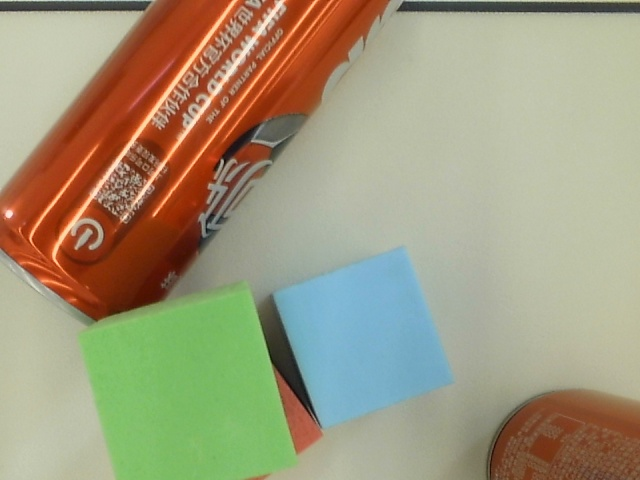bluecube: (268, 242, 472, 438)
cola: (1, 1, 418, 333), (480, 384, 640, 480)
greencube: (79, 280, 308, 480)
